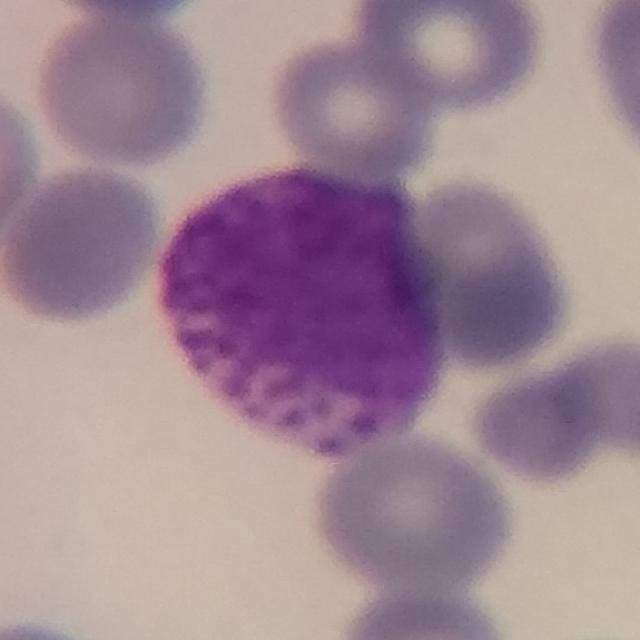Basophil: (132, 150, 460, 476)
RBC: (306, 425, 521, 590), (405, 173, 579, 374), (30, 8, 215, 171), (0, 162, 166, 328), (264, 32, 441, 178), (351, 0, 552, 118), (469, 366, 601, 487), (335, 582, 513, 640), (581, 0, 640, 166), (563, 336, 640, 452), (0, 74, 43, 251), (48, 0, 216, 23), (0, 612, 116, 640)
